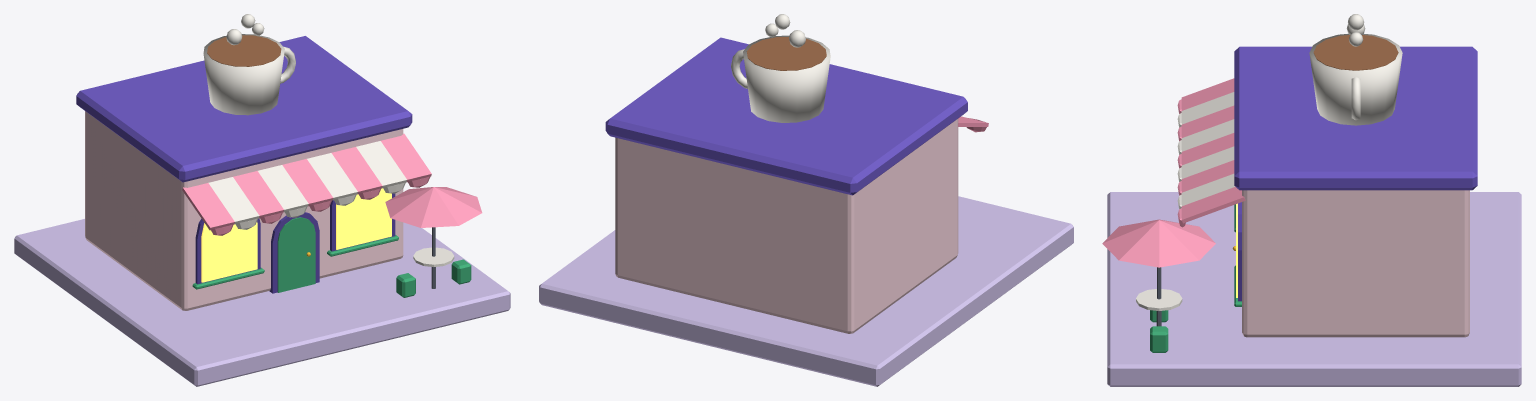
Rendered from bld_cafe.glb.
3 views of the same model, side by side, from view 1: azimuth 30°, elevation 25°; view 2: azimuth 150°, elevation 25°; view 3: azimuth 270°, elevation 25° (orthographic). The views are drawn at different scales.
Visible parts, largest first — view 1: bld_cafe; view 2: bld_cafe; view 3: bld_cafe.
Boxes of the visible parts, box(x1,y1,x2,y2) form: bld_cafe: box(14, 14, 510, 386); bld_cafe: box(539, 14, 1073, 386); bld_cafe: box(1102, 14, 1521, 386).
Bounding box in the file's own units: 8 × 6.14 × 8.1.
